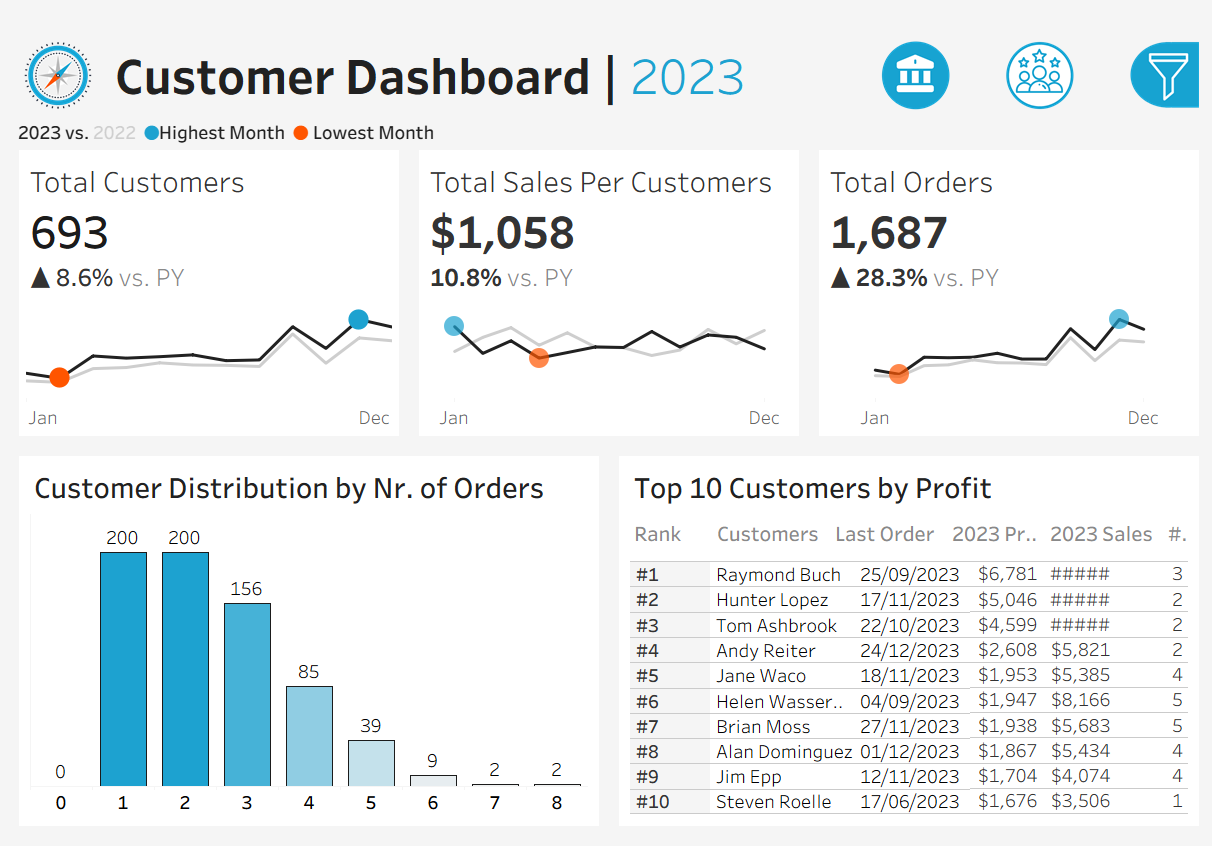

The page's visual inventory and layout, read from the dashboard file:
{"tool":"tableau","page":{"name":"Customer Dashboard","canvas":[1200,800],"ordinal":0},"visuals":[{"type":"image","param":"Image/Icon - Logo.png","box":[0,0,98,78]},{"type":"text","box":[98,0,728,78]},{"type":"dashboard-object","box":[844,0,124,78]},{"type":"dashboard-object","box":[968,0,124,78]},{"type":"blank","box":[916,10,271,130]},{"type":"worksheet","title":"D1.Legend KPI","mark":"Automatic","box":[0,78,1200,36]},{"type":"worksheet","title":"D2 KPI Customers ","mark":"Automatic","rows":["Calculation_0484359647154180"],"cols":["Order Date"],"box":[0,114,400,296]},{"type":"worksheet","title":"D2 KPI Sales Per Customers ","mark":"Automatic","rows":["Calculation_0484359654948875"],"cols":["Order Date"],"box":[400,114,400,296]},{"type":"worksheet","title":"D2 KPI Orders","mark":"Automatic","rows":["Calculation_0484359651008520"],"cols":["Order Date"],"box":[800,114,400,296]},{"type":"text","box":[916,140,271,47]},{"type":"parameter","param":"[Parameters].[Parameter 1]","box":[916,187,271,76]},{"type":"blank","box":[916,263,271,32]},{"type":"text","box":[916,295,271,39]},{"type":"filter","title":"D1.Legend KPI","param":"[federated.0ahvkyk1p808id13zwera1scxx4p].[none:Category:nk]","box":[916,334,271,70]},{"type":"filter","title":"D1.Legend KPI","param":"[federated.0ahvkyk1p808id13zwera1scxx4p].[none:Sub-Category:nk]","box":[916,404,271,92]},{"type":"text","box":[17,427,566,47]},{"type":"text","box":[617,427,566,47]},{"type":"worksheet","title":"D2 Customer Distribution","mark":"Automatic","rows":["Calculation_0484359610740736"],"cols":["Calculation_0484359653564425"],"box":[17,474,566,309]},{"type":"text","box":[617,474,83,47]},{"type":"text","box":[700,474,117.7,47]},{"type":"text","box":[817.7,474,117.7,47]},{"type":"text","box":[935.3,474,98,47]},{"type":"text","box":[1033.3,474,117.7,47]},{"type":"text","box":[1151,474,32,47]},{"type":"blank","box":[916,496,271,25]},{"type":"worksheet","title":"D2 Top Customers","mark":"Automatic","rows":["Calculation_0751816233541641","Customer Name","Order Date"],"box":[617,521,566,262]},{"type":"text","box":[916,521,271,39]},{"type":"filter","title":"D1.Legend KPI","param":"[federated.0ahvkyk1p808id13zwera1scxx4p].[none:Region:nk]","box":[916,560,271,70]},{"type":"filter","title":"D1.Legend KPI","param":"[federated.0ahvkyk1p808id13zwera1scxx4p].[none:State:nk]","box":[916,630,271,70]},{"type":"filter","title":"D1.Legend KPI","param":"[federated.0ahvkyk1p808id13zwera1scxx4p].[none:City:nk]","box":[916,700,271,70]}]}

Visuals, with their boxes on the page's 1200x800 design canvas (x1, y1, x2, y2). These are canvas units, not pixel positions in the 1212x846 screenshot, which may show the page scaled, cropped or inside an application window:
image: 0:0:98:78
text: 98:0:826:78
dashboard-object: 844:0:968:78
dashboard-object: 968:0:1092:78
blank: 916:10:1187:140
"D1.Legend KPI" worksheet: 0:78:1200:114
"D2 KPI Customers " worksheet: 0:114:400:410
"D2 KPI Sales Per Customers " worksheet: 400:114:800:410
"D2 KPI Orders" worksheet: 800:114:1200:410
text: 916:140:1187:187
parameter: 916:187:1187:263
blank: 916:263:1187:295
text: 916:295:1187:334
"D1.Legend KPI" filter: 916:334:1187:404
"D1.Legend KPI" filter: 916:404:1187:496
text: 17:427:583:474
text: 617:427:1183:474
"D2 Customer Distribution" worksheet: 17:474:583:783
text: 617:474:700:521
text: 700:474:818:521
text: 818:474:935:521
text: 935:474:1033:521
text: 1033:474:1151:521
text: 1151:474:1183:521
blank: 916:496:1187:521
"D2 Top Customers" worksheet: 617:521:1183:783
text: 916:521:1187:560
"D1.Legend KPI" filter: 916:560:1187:630
"D1.Legend KPI" filter: 916:630:1187:700
"D1.Legend KPI" filter: 916:700:1187:770
